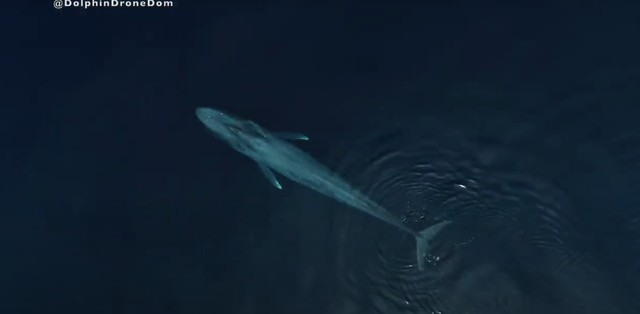whale: (189, 102, 465, 276)
